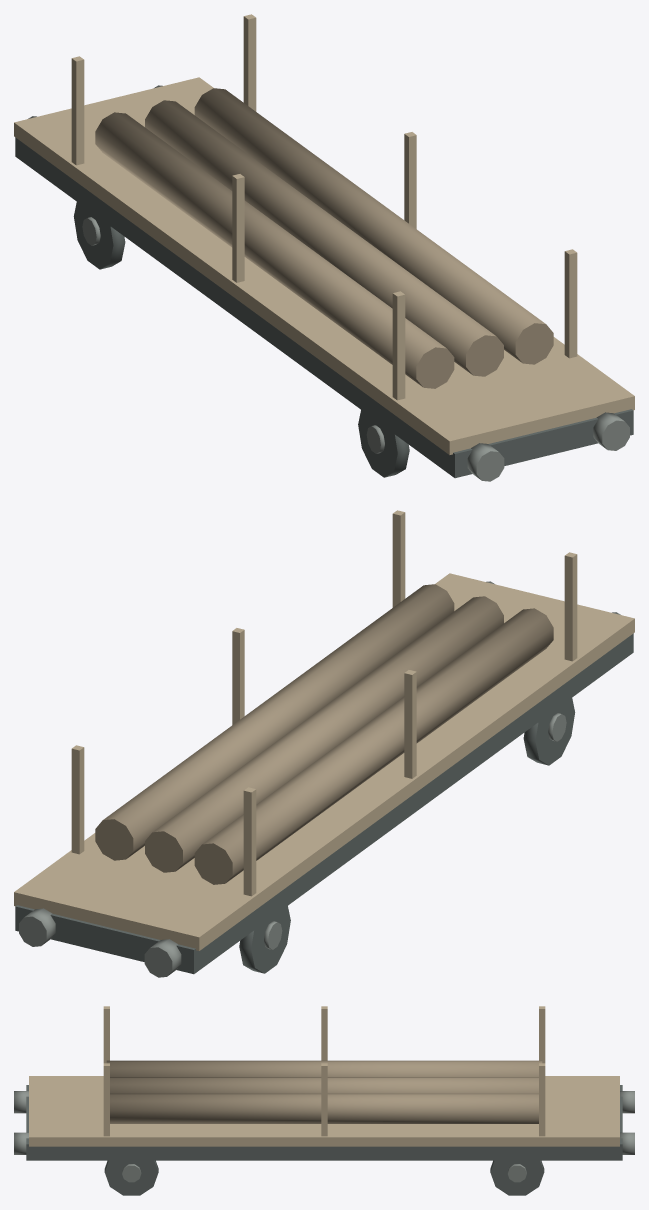
The model's file is rhine-flat_lod1.glb.
3 renders of one model, top to bottom at view 1: azimuth 30°, elevation 25°; view 2: azimuth 150°, elevation 25°; view 3: azimuth 270°, elevation 25°, orthographic. The views are drawn at different scales.
Visible parts, largest first — view 1: RF_FlatDeck, RF_TimberLoad.001, RF_TimberLoad, RF_TimberLoad.002, RF_Chassis, RF_Wheel.001, RF_Wheel.003, RF_Stake.002, RF_Stake.005, RF_Stake.001, RF_Stake.003, RF_Stake (+3 smaller); view 2: RF_FlatDeck, RF_TimberLoad.001, RF_TimberLoad, RF_TimberLoad.002, RF_Chassis, RF_Wheel.001, RF_Wheel.003, RF_Stake.001, RF_Stake, RF_Stake.005, RF_Stake.003, RF_Stake.002 (+3 smaller); view 3: RF_FlatDeck, RF_TimberLoad, RF_Chassis, RF_TimberLoad.001, RF_TimberLoad.002, RF_Wheel.002, RF_Wheel, RF_Stake.004, RF_Stake.002, RF_Stake, RF_Stake.001, RF_Stake.005 (+7 smaller).
Part boxes in pixels (box(x1,y1,x2,y2)): RF_FlatDeck: box(14, 77, 634, 454); RF_TimberLoad.001: box(95, 112, 454, 388); RF_TimberLoad: box(194, 88, 553, 364); RF_TimberLoad.002: box(145, 100, 503, 376); RF_Chassis: box(15, 137, 633, 478); RF_Wheel.001: box(358, 410, 409, 477); RF_Wheel.003: box(73, 202, 125, 269); RF_Stake.002: box(564, 249, 577, 358); RF_Stake.005: box(71, 56, 84, 165); RF_Stake.001: box(392, 291, 405, 400); RF_Stake.003: box(232, 174, 244, 282); RF_Stake: box(243, 14, 256, 111); RF_FlatDeck: box(14, 573, 634, 950); RF_TimberLoad.001: box(194, 608, 553, 884); RF_TimberLoad: box(95, 584, 454, 860); RF_TimberLoad.002: box(145, 596, 503, 872); RF_Chassis: box(15, 633, 633, 974); RF_Wheel.001: box(523, 698, 575, 765); RF_Wheel.003: box(239, 906, 290, 973); RF_Stake.001: box(564, 552, 577, 661); RF_Stake: box(71, 745, 84, 854); RF_Stake.005: box(243, 787, 256, 896); RF_Stake.003: box(404, 670, 416, 778); RF_Stake.002: box(392, 510, 405, 607); RF_FlatDeck: box(29, 1076, 619, 1146); RF_TimberLoad: box(110, 1093, 538, 1123); RF_Chassis: box(26, 1085, 622, 1160); RF_TimberLoad.001: box(106, 1060, 542, 1076); RF_TimberLoad.002: box(110, 1077, 538, 1093); RF_Wheel.002: box(104, 1160, 158, 1195); RF_Wheel: box(490, 1160, 544, 1195); RF_Stake.004: box(321, 1063, 327, 1136); RF_Stake.002: box(103, 1063, 109, 1136); RF_Stake: box(539, 1063, 545, 1136); RF_Stake.001: box(103, 1006, 109, 1063); RF_Stake.005: box(539, 1006, 545, 1063).
Bounding box in the file's own units: 2.8 × 2.77 × 11.98.
